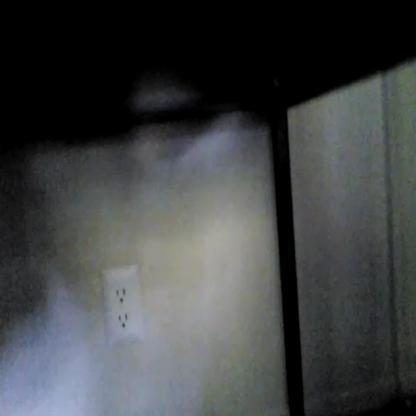OUTLET: (102, 263, 144, 346)
